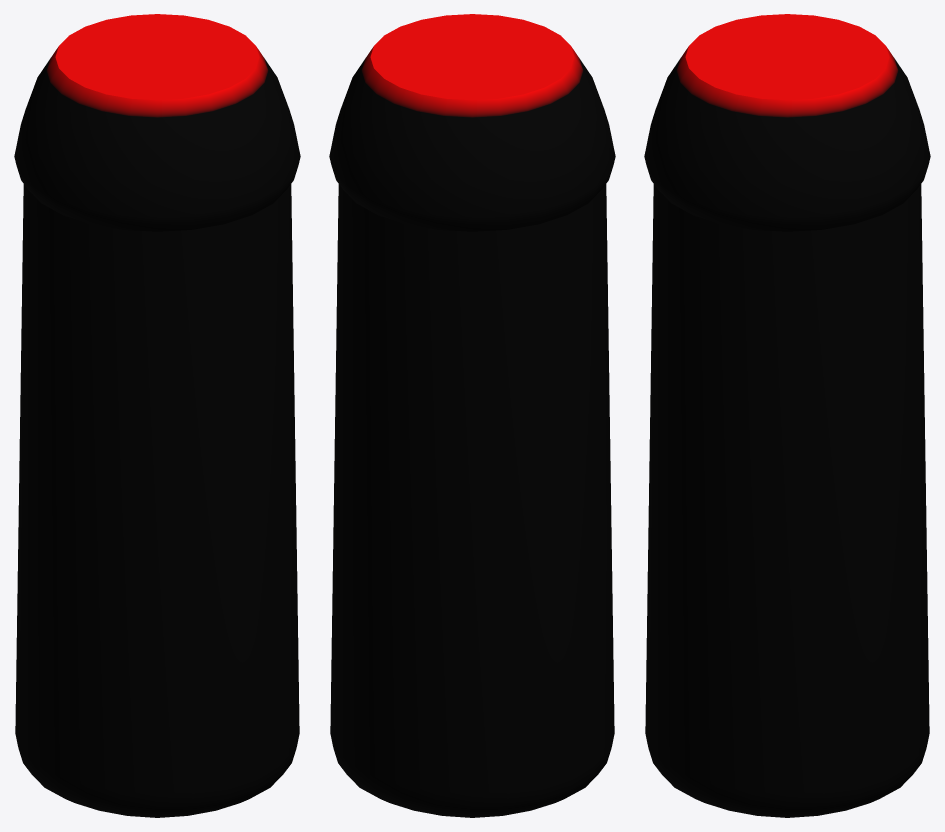
The model's file is PlasticBottle_Water.fbx.
3 renders of one model, left to right at view 1: azimuth 30°, elevation 25°; view 2: azimuth 150°, elevation 25°; view 3: azimuth 270°, elevation 25°, orthographic.
Parts seen in each view (by area): view 1: Circle.002; view 2: Circle.002; view 3: Circle.002.
Boxes of the visible parts, x1,y1,x2,y2 form: Circle.002: (14, 14, 300, 817); Circle.002: (329, 14, 615, 817); Circle.002: (644, 14, 930, 817).
Size of the model in its own units: 0.5171 by 1.42 by 0.5171.
